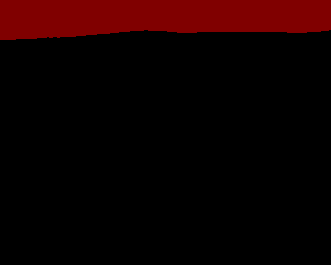Sky: (1, 1, 330, 40)
